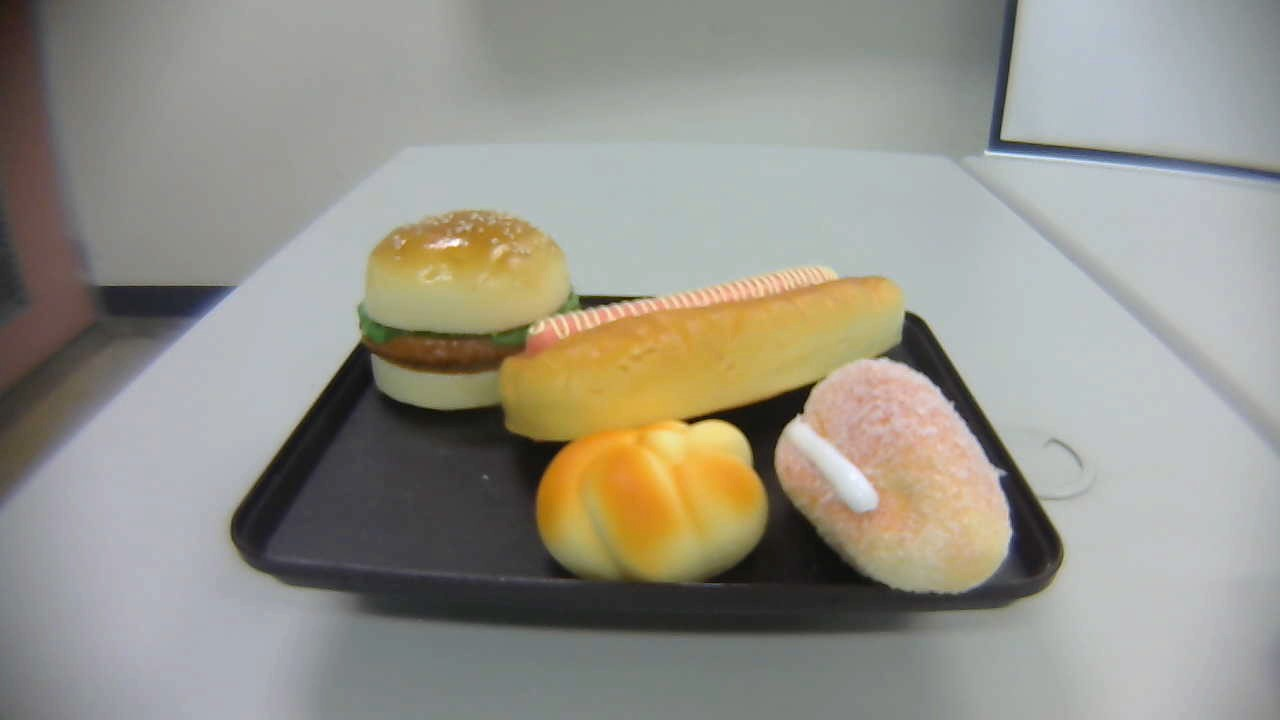coconut: (773, 357, 1016, 596)
hamburger: (358, 208, 578, 410)
hot dog: (498, 265, 905, 439)
twist bread: (534, 417, 768, 586)
